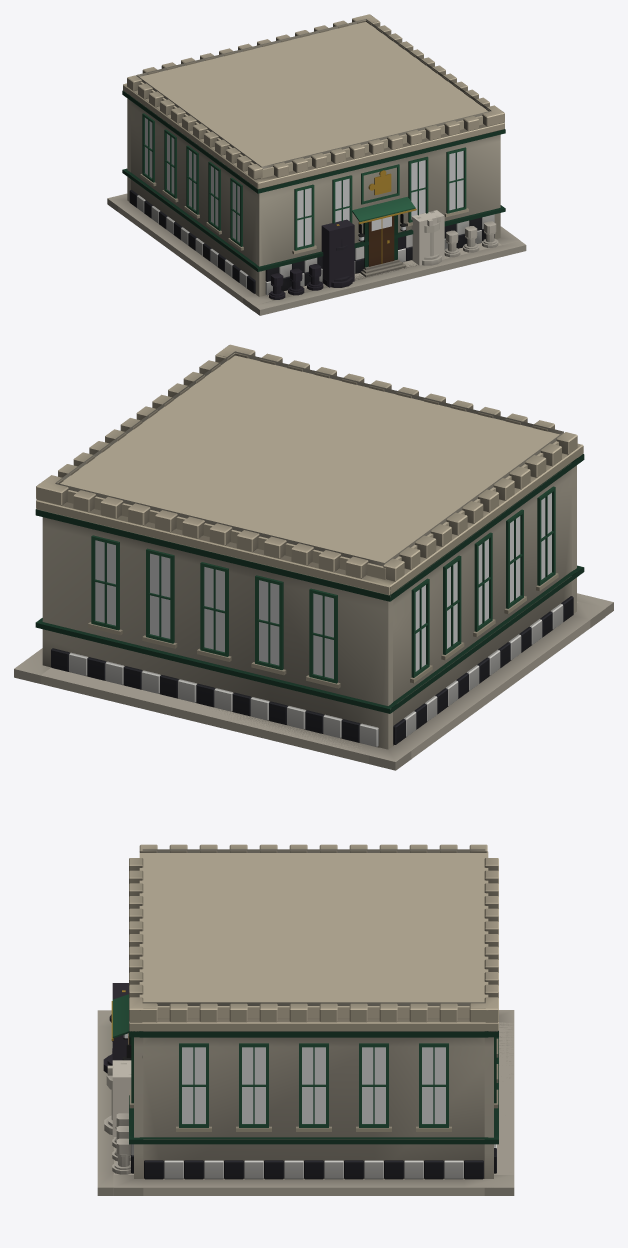
File: FennecRiddlerFloor.fbx
3 renders of one model, top to bottom at view 1: azimuth 30°, elevation 25°; view 2: azimuth 150°, elevation 25°; view 3: azimuth 270°, elevation 25°, orthographic. The views are drawn at different scales.
Visible parts, largest first — view 1: CS_S_All, CS_F_Rings, CS_F_Smooth, CS_F_Quiet, CS_F_Glass, CS_F_Props; view 2: CS_S_All, CS_F_Rings, CS_F_Smooth, CS_F_Quiet, CS_F_Glass; view 3: CS_S_All, CS_F_Rings, CS_F_Smooth, CS_F_Quiet, CS_F_Glass, CS_F_Props.
Part boxes in pixels (box(x1,y1,x2,y2)): CS_S_All: box(113, 22, 519, 304); CS_F_Rings: box(123, 14, 504, 296); CS_F_Smooth: box(107, 18, 526, 315); CS_F_Quiet: box(108, 190, 525, 309); CS_F_Glass: box(145, 118, 463, 247); CS_F_Props: box(269, 211, 498, 297); CS_S_All: box(14, 355, 605, 770); CS_F_Rings: box(36, 344, 583, 749); CS_F_Smooth: box(14, 350, 613, 770); CS_F_Quiet: box(15, 593, 613, 761); CS_F_Glass: box(95, 493, 551, 678); CS_S_All: box(112, 852, 514, 1195); CS_F_Rings: box(112, 844, 498, 1178); CS_F_Smooth: box(97, 845, 513, 1195); CS_F_Quiet: box(97, 1010, 513, 1187); CS_F_Glass: box(123, 1033, 445, 1123); CS_F_Props: box(103, 1014, 131, 1170).
Size of the model in its own units: 60 by 20 by 60.
